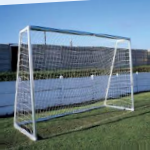goals: (12, 25, 135, 142)
